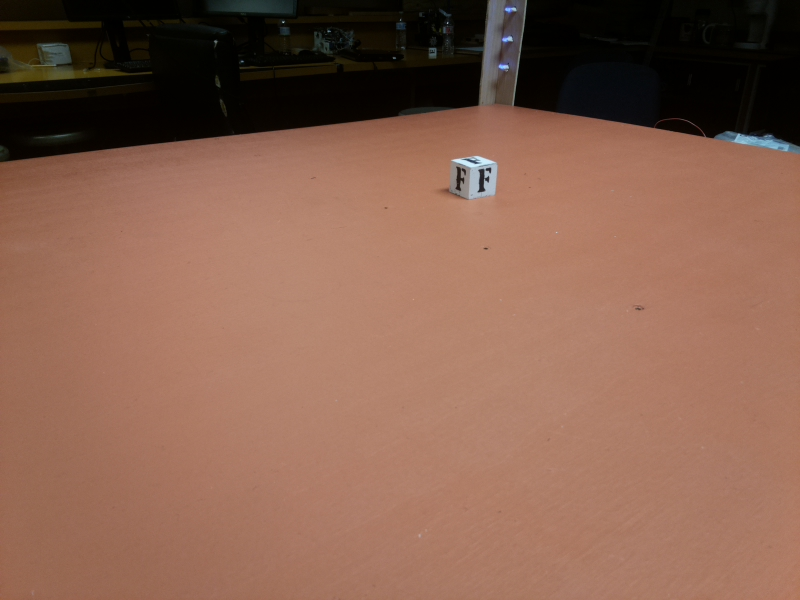blockF: (448, 155, 503, 196)
corner: (476, 1, 532, 111)
